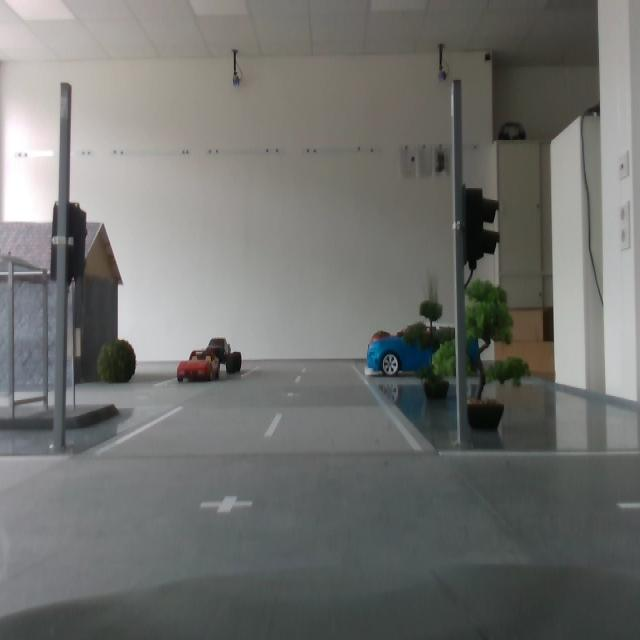car: (364, 322, 483, 379), (198, 337, 246, 376), (177, 349, 224, 388)
potted plant: (432, 281, 535, 432), (403, 297, 458, 399), (97, 338, 139, 387), (424, 272, 440, 357), (368, 329, 394, 367)
traffic light: (462, 184, 500, 272), (50, 200, 88, 284)
